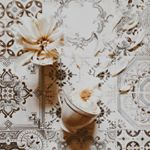cups: (55, 86, 105, 136)
